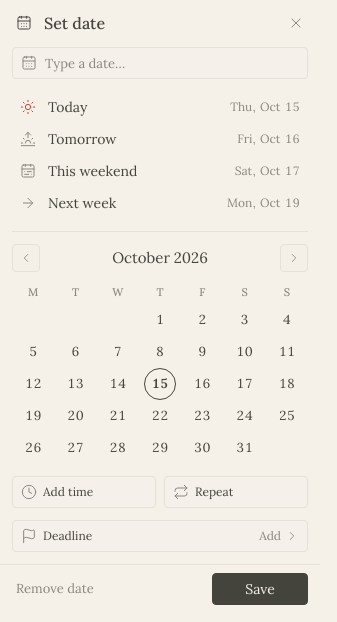
Scenario: TaskDatePickerPanel › time and deadline screen › dates the task today when adding a time to an undated task
Click the button "Add time" at (84, 492), box top-left (12, 476), bottom-right (156, 508)
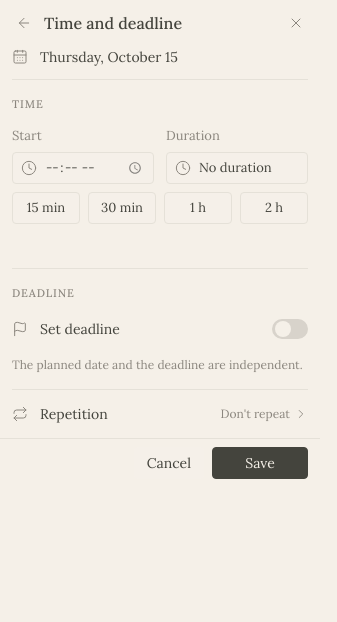
expect the text "Thursday, October 15" is shown: met, box top-left (40, 45), bottom-right (178, 69)
